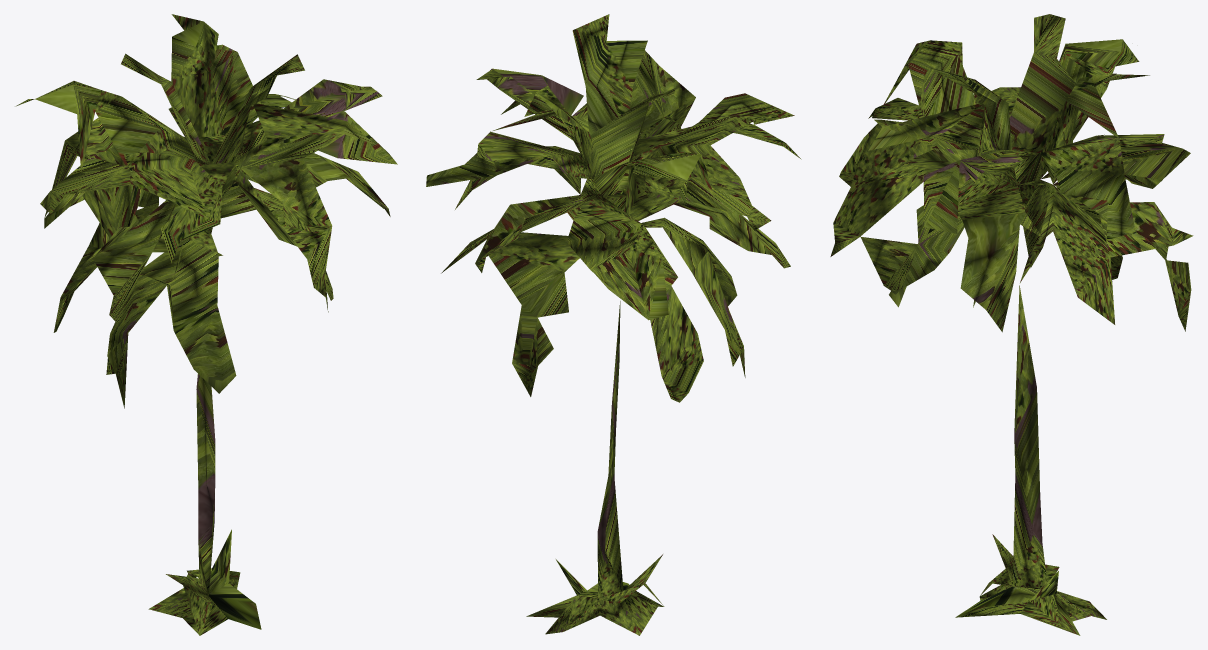
The model's file is palm-far.glb.
3 renders of one model, left to right at view 1: azimuth 30°, elevation 25°; view 2: azimuth 150°, elevation 25°; view 3: azimuth 270°, elevation 25°, orthographic. The views are drawn at different scales.
Parts seen in each view (by area): view 1: tripo_node_2c446011-61ba-46a7-995a-a29db6432cc5; view 2: tripo_node_2c446011-61ba-46a7-995a-a29db6432cc5; view 3: tripo_node_2c446011-61ba-46a7-995a-a29db6432cc5.
Boxes of the visible parts, x1,y1,x2,y2 form: tripo_node_2c446011-61ba-46a7-995a-a29db6432cc5: (15,14,397,635); tripo_node_2c446011-61ba-46a7-995a-a29db6432cc5: (426,14,801,635); tripo_node_2c446011-61ba-46a7-995a-a29db6432cc5: (830,14,1193,635).
Bounding box in the file's own units: 2.08 × 3.4 × 1.97.
Materials: 1 (1 with a texture image).
